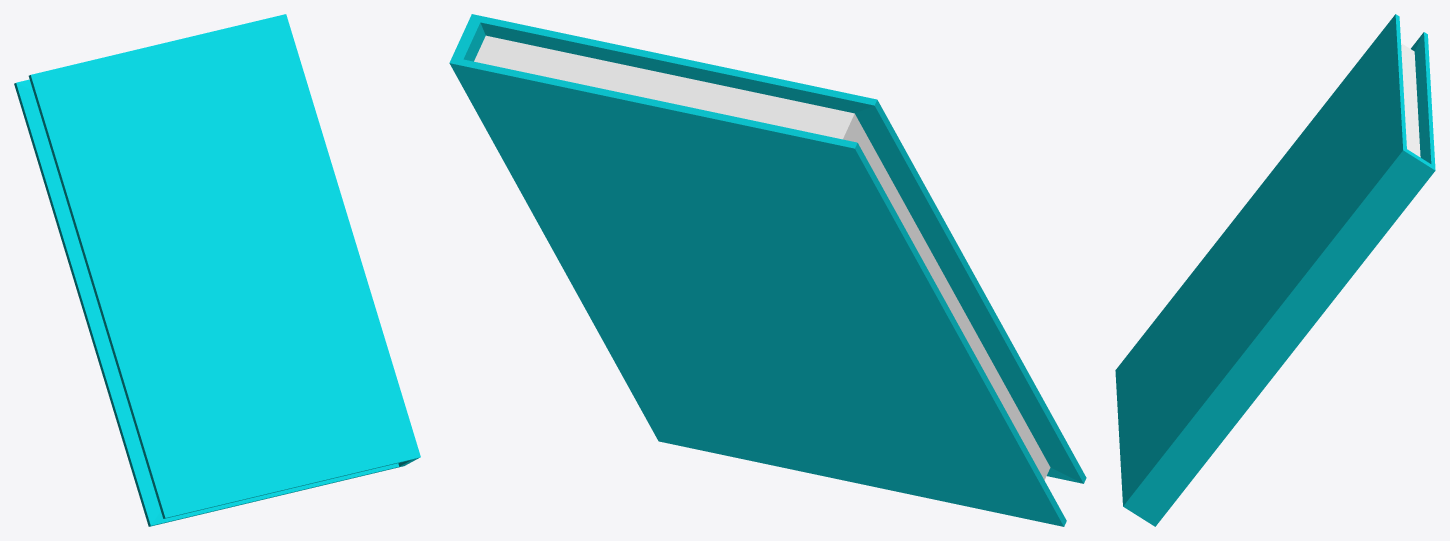
File: LibroCeleste.fbx
3 views of the same model, side by side, from view 1: azimuth 30°, elevation 25°; view 2: azimuth 150°, elevation 25°; view 3: azimuth 270°, elevation 25° (orthographic). The views are drawn at different scales.
Parts seen in each view (by area): view 1: Cubo.1931; view 2: Cubo.1931; view 3: Cubo.1931.
Part boxes in pixels (x1=…): Cubo.1931: x1=14, y1=14, x2=420, y2=526; Cubo.1931: x1=449, y1=14, x2=1086, y2=526; Cubo.1931: x1=1115, y1=14, x2=1435, y2=526.
Size of the model in its own units: 17.68 by 23.93 by 18.14.
